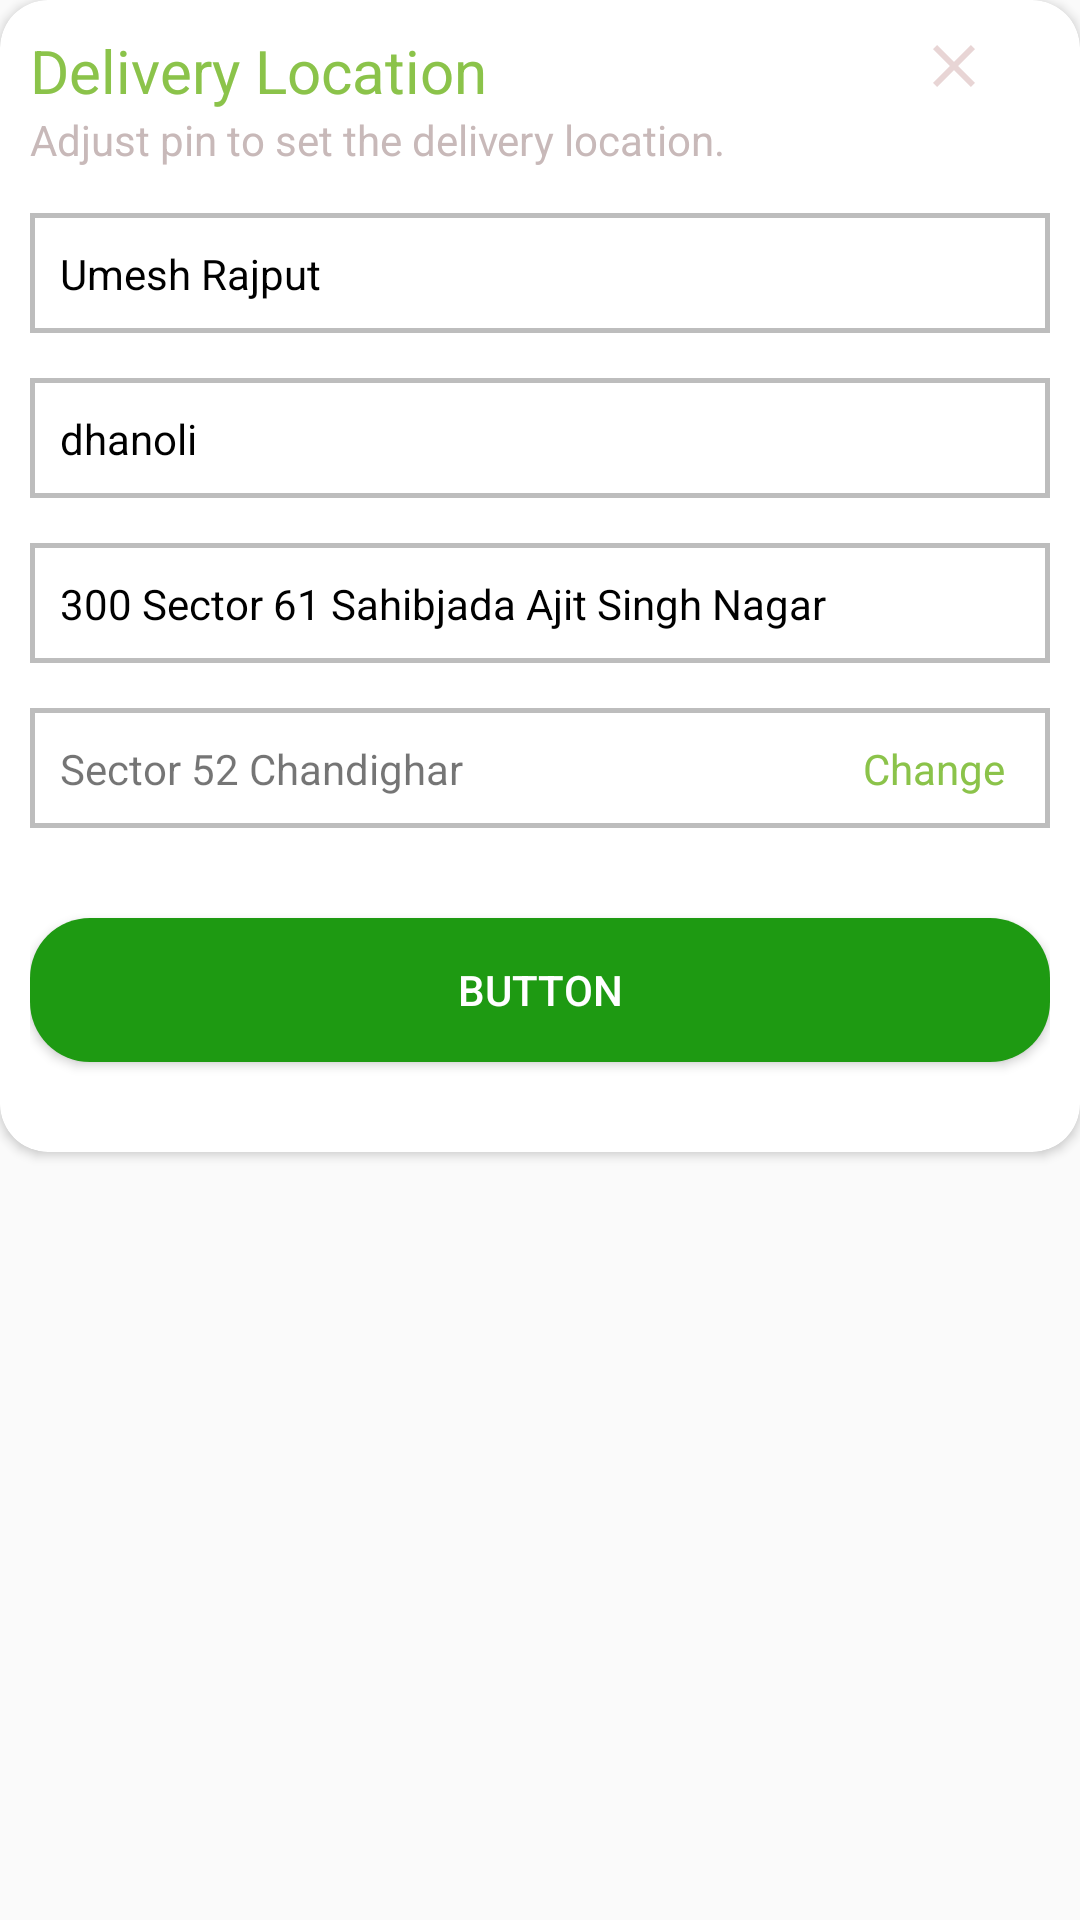

Icons on this 1080 x 1920 Android screen, each with its box as (x1, y1, x2, y2):
close: (933, 45, 975, 87)
